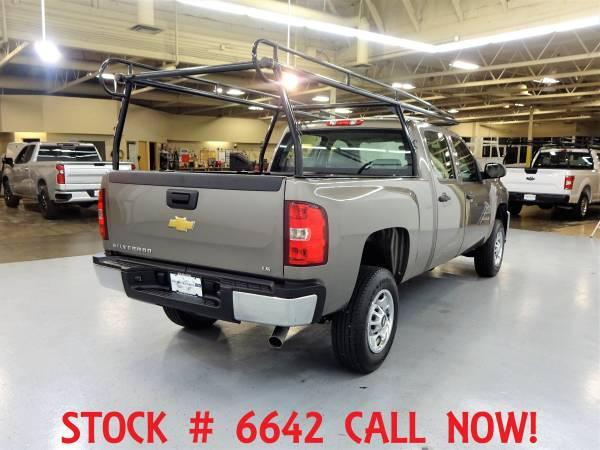Front_Right_Door: (457, 181, 490, 257)
Front_Right_Window: (443, 132, 481, 180)
Left_Taillight: (96, 197, 108, 244)
Rear_Bumper: (90, 255, 322, 332)
Rear_Fender: (284, 178, 434, 313)
Rear_Right_Door: (426, 180, 464, 268)
Rear_Right_Window: (409, 124, 455, 180)
Rear_Windshield: (257, 118, 422, 180)
Right_Taillight: (284, 198, 329, 266)
Tailgate: (97, 175, 284, 282)
Wheel: (330, 263, 401, 373), (472, 219, 506, 278)
